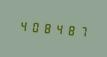eight: (66, 21, 77, 39), (42, 19, 53, 36)
four: (17, 16, 28, 34), (54, 20, 65, 37)
seven: (78, 22, 89, 40)
zero: (29, 17, 40, 35)
